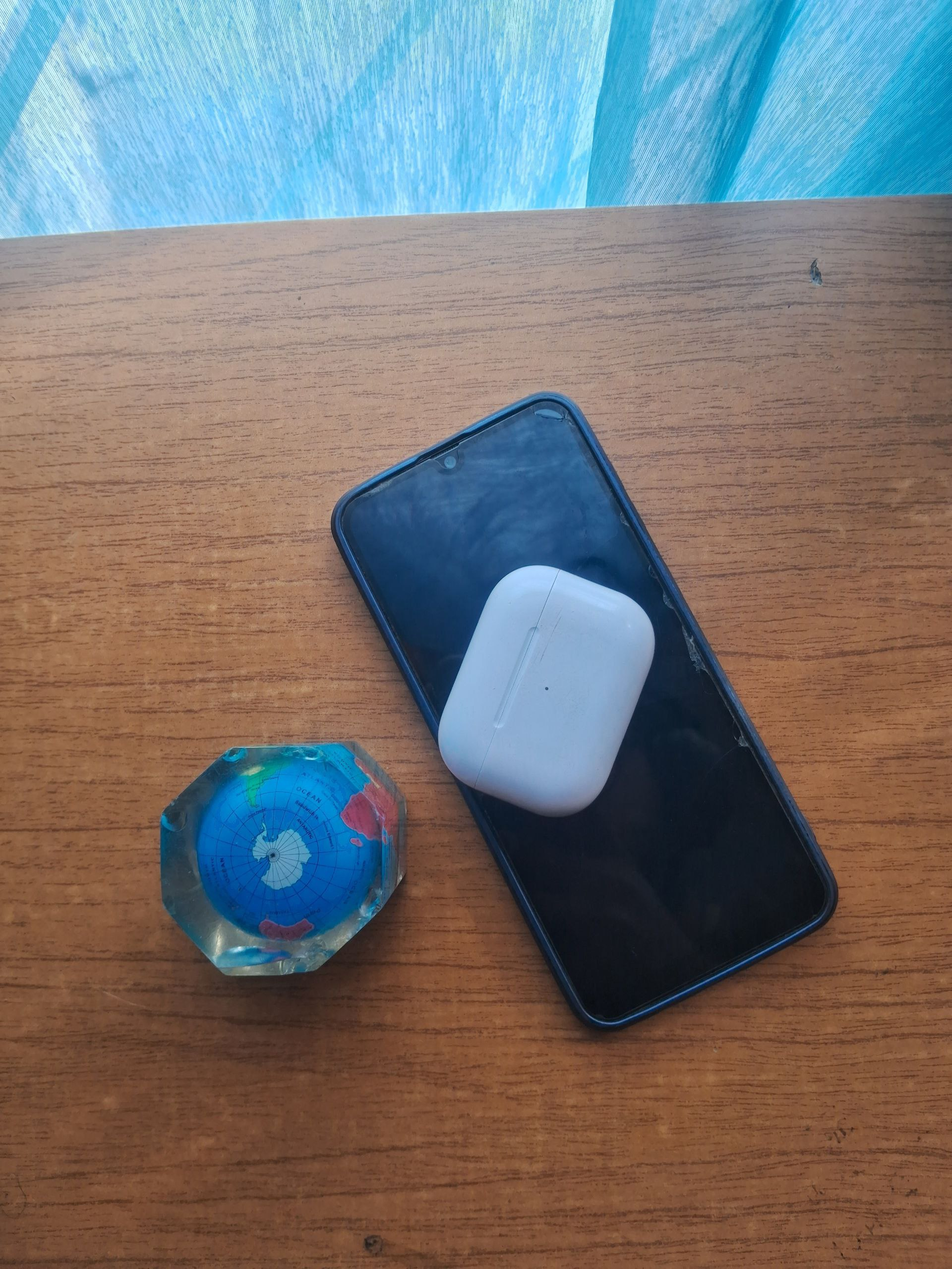Air_pod: (435, 561, 659, 825)
Smart_phone: (327, 388, 843, 1037)
world_globe: (152, 732, 415, 982)
